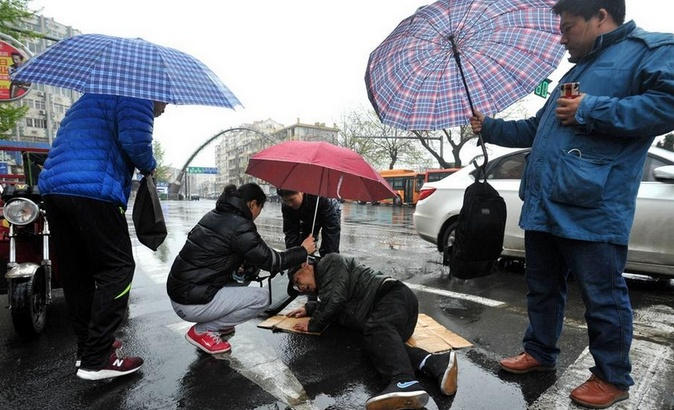falling: (266, 249, 471, 408)
